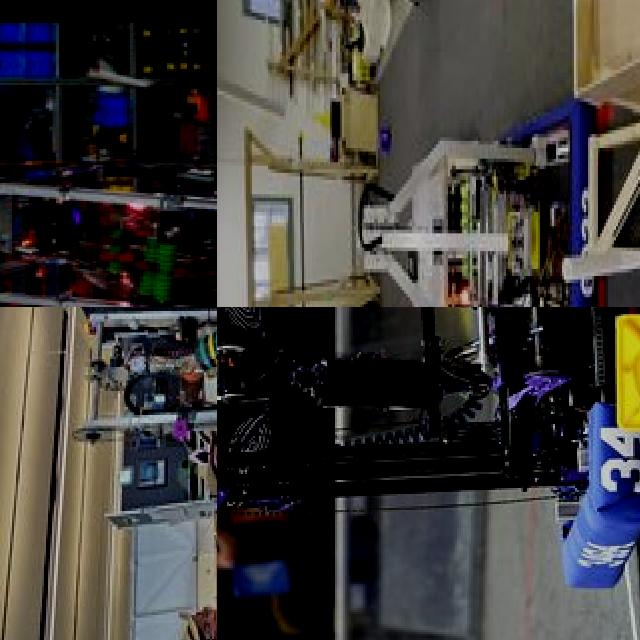FRC-Robots: (217, 307, 640, 587), (338, 44, 602, 307), (0, 92, 217, 307), (54, 307, 217, 541)
